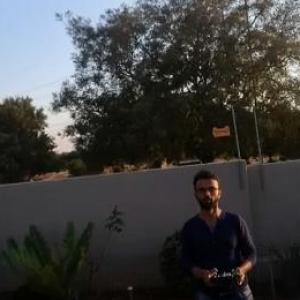follow: (179, 165, 266, 299)
